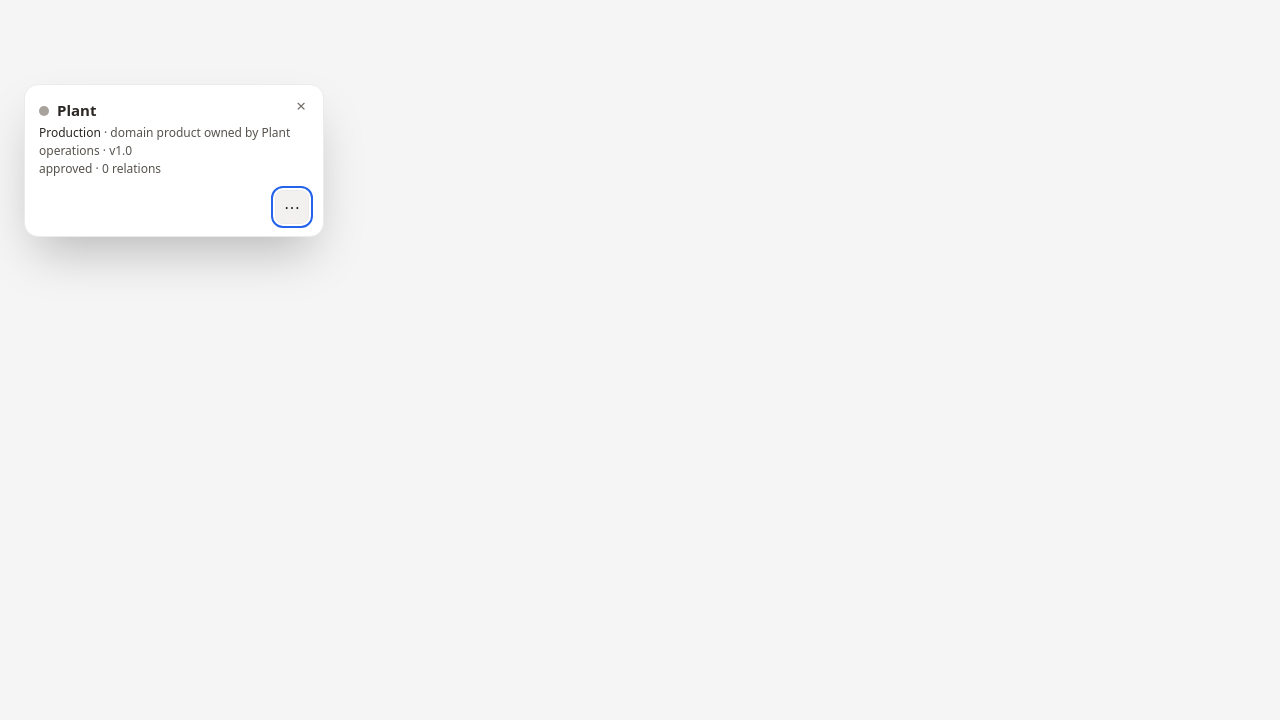
drawer More actions menu › Down on the button opens it; a press outside closes it and gives the focus back
Press ArrowDown in the button with id "drMore", box [275,190,309,224]
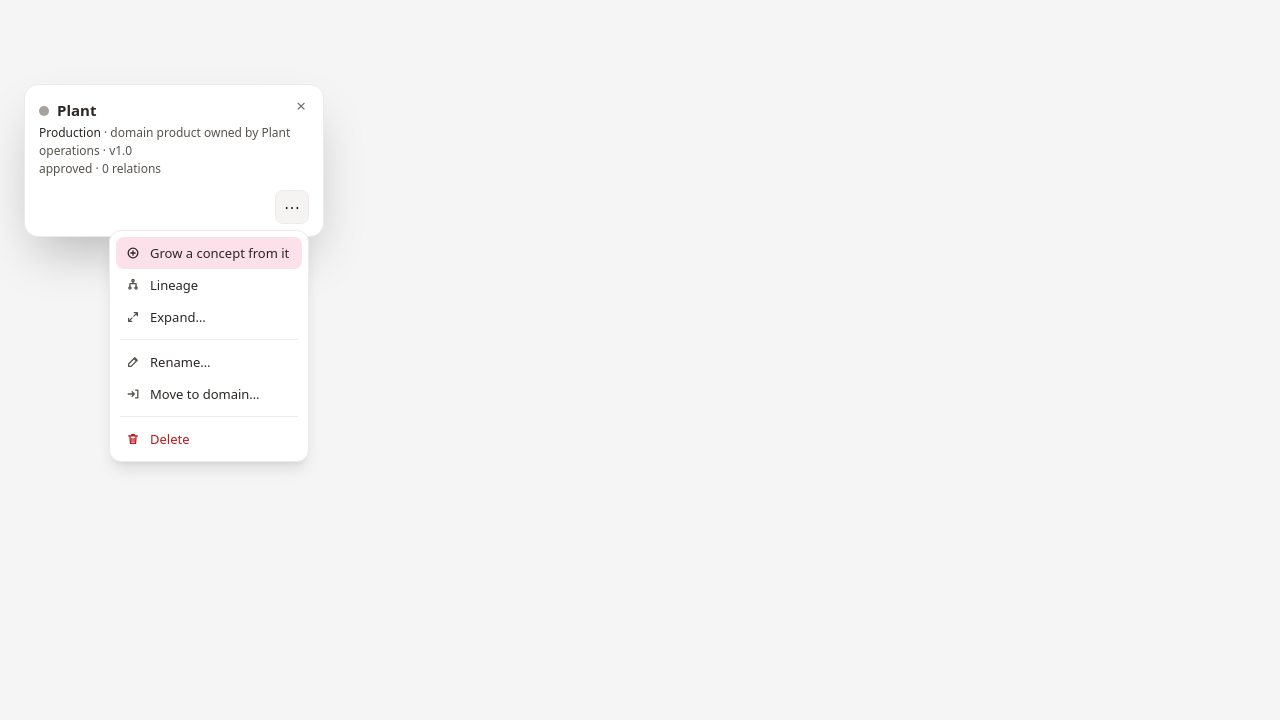
Expected: the menu with id "drMoreMenu" is shown, [109,230,309,462]
Press the mouse on the menu item with id "drRename" at x=209, y=362, box [116,346,302,378]
Expected: the menu with id "drMoreMenu" is shown, [109,230,309,462]
Press the mouse on the element that starts with "Plant" at x=640, y=360, box [0,0,1279,719]
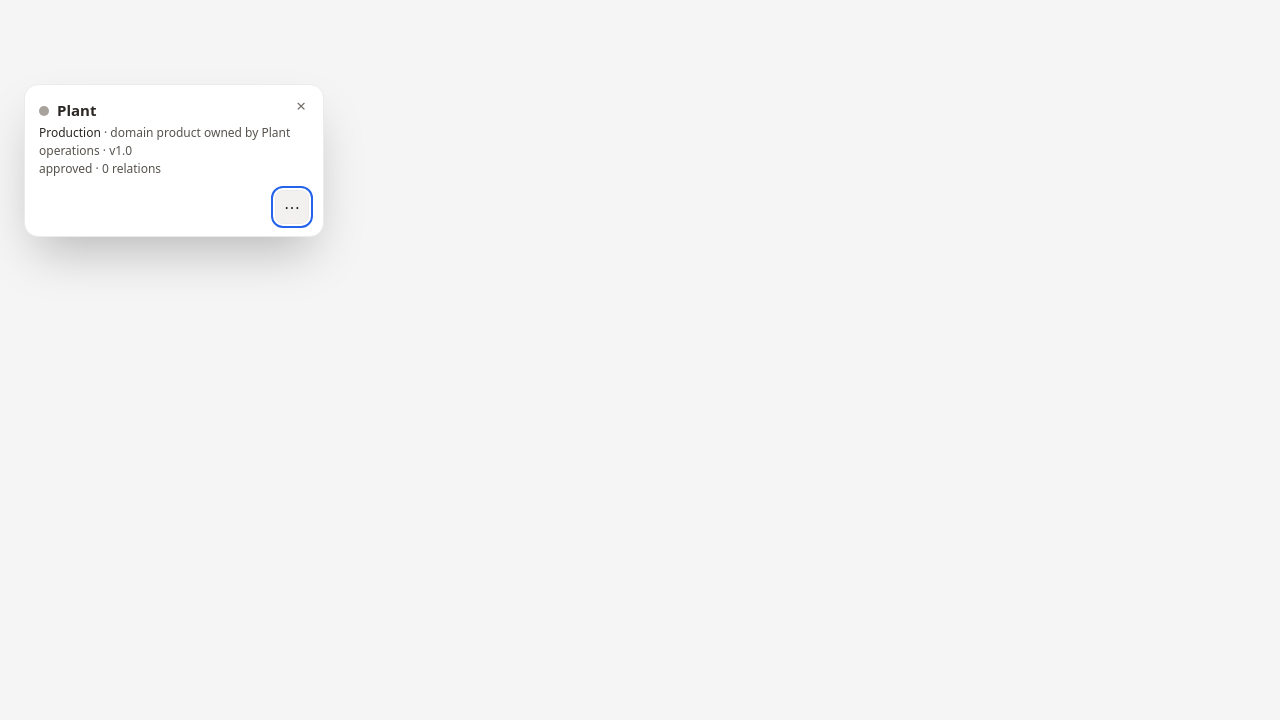
Expected: the menu with id "drMoreMenu" is gone
